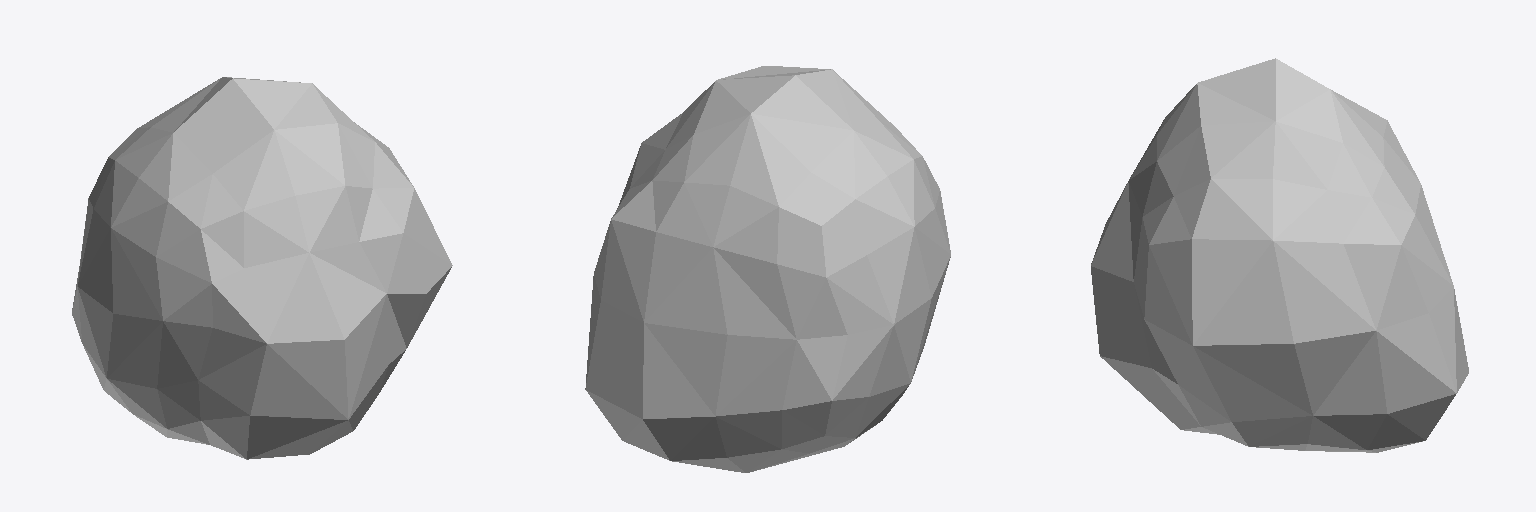
Rendered from rock1.obj.
The picture shows the model from 3 angles: view 1: azimuth 30°, elevation 25°; view 2: azimuth 150°, elevation 25°; view 3: azimuth 270°, elevation 25°; orthographic projection.
Visible parts, largest first — view 1: [Imported]_obj2_obj2; view 2: [Imported]_obj2_obj2; view 3: [Imported]_obj2_obj2.
Part boxes in pixels (x1,y1,x2,y2): [Imported]_obj2_obj2: (72,77,452,459); [Imported]_obj2_obj2: (585,66,950,472); [Imported]_obj2_obj2: (1091,58,1468,452).
Size of the model in its own units: 5.82 by 6.72 by 6.23.